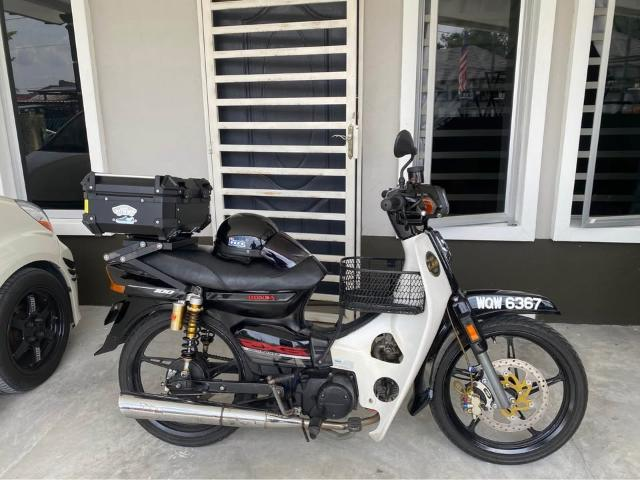License_Plate: (476, 295, 544, 316)
motorcycle: (81, 130, 589, 466)
